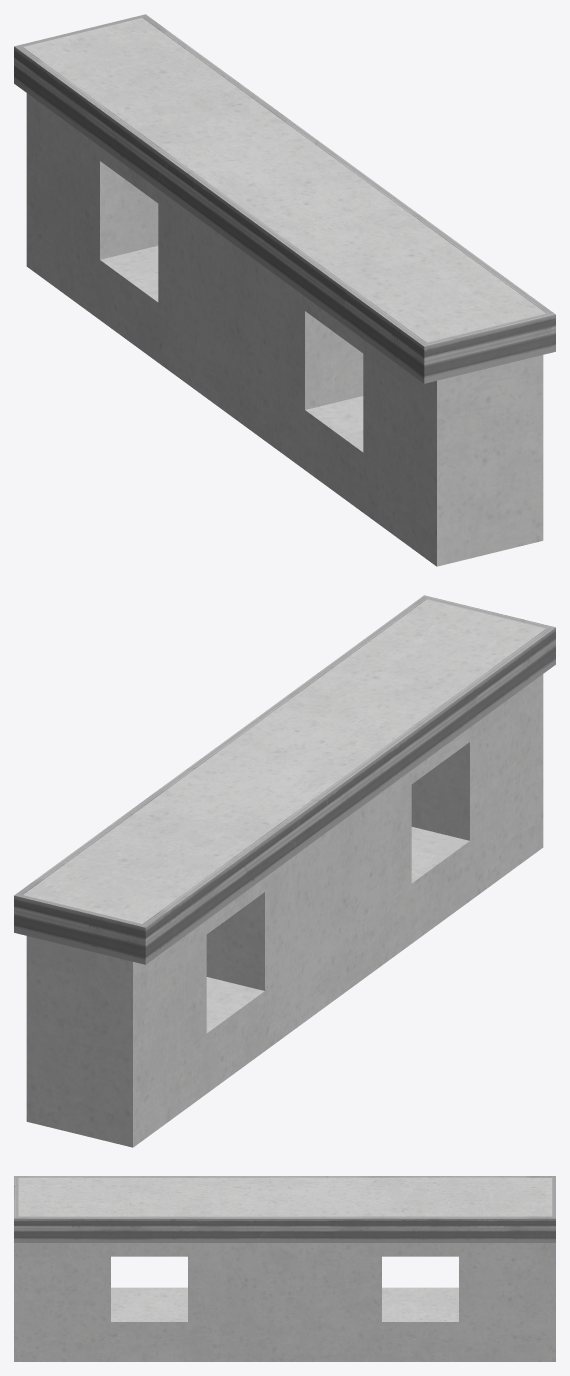
Rendered from MB_Fence_E_2m.fbx.
3 renders of one model, top to bottom at view 1: azimuth 30°, elevation 25°; view 2: azimuth 150°, elevation 25°; view 3: azimuth 270°, elevation 25°, orthographic. The views are drawn at different scales.
Parts seen in each view (by area): view 1: MB_Fence_E_2m; view 2: MB_Fence_E_2m; view 3: MB_Fence_E_2m.
Boxes of the visible parts, x1,y1,x2,y2 form: MB_Fence_E_2m: (14,14,555,566); MB_Fence_E_2m: (14,595,555,1147); MB_Fence_E_2m: (14,1176,555,1361).
Size of the model in its own units: 37.08 by 60 by 200.
